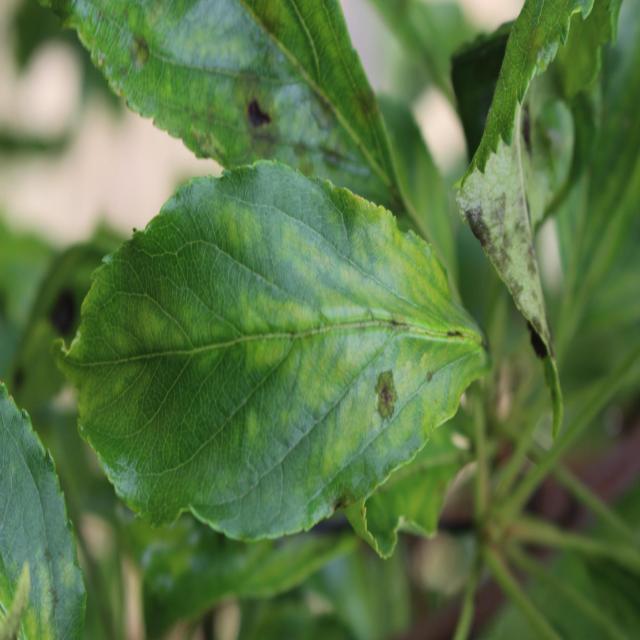scab: (100, 2, 400, 210), (452, 156, 571, 337), (368, 350, 404, 454)
